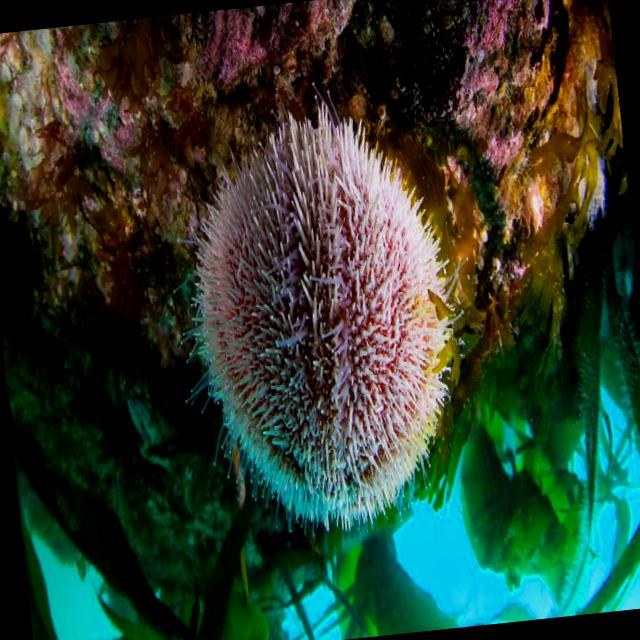Deniz Kestanesi: (150, 63, 494, 550)
